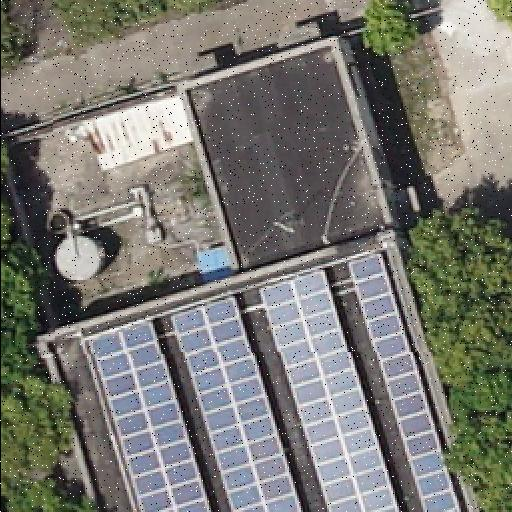solar-panel: (259, 272, 397, 512), (346, 256, 458, 512), (172, 294, 300, 512), (89, 316, 215, 512)
